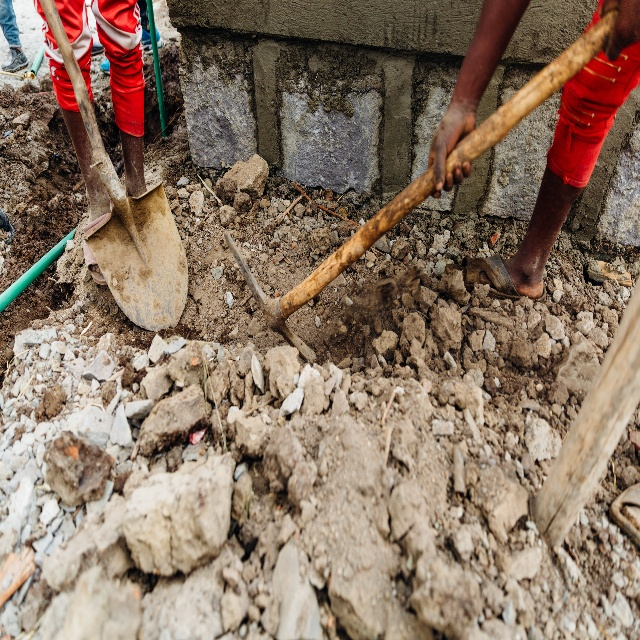Sin_guantes: (428, 106, 476, 199), (602, 0, 640, 61)
